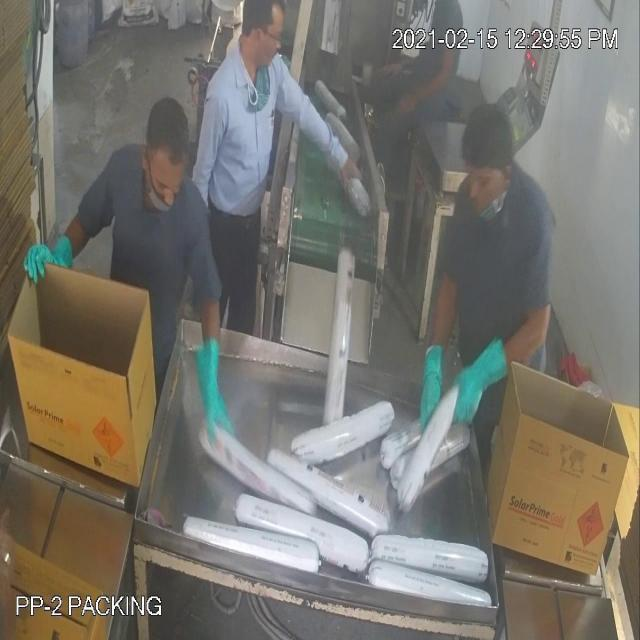Gloves: (32, 63, 488, 390)
